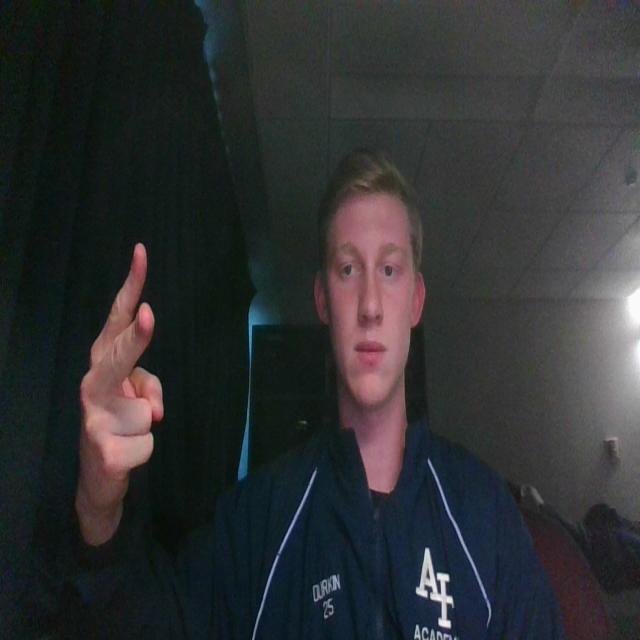scissors: (71, 230, 170, 557)
